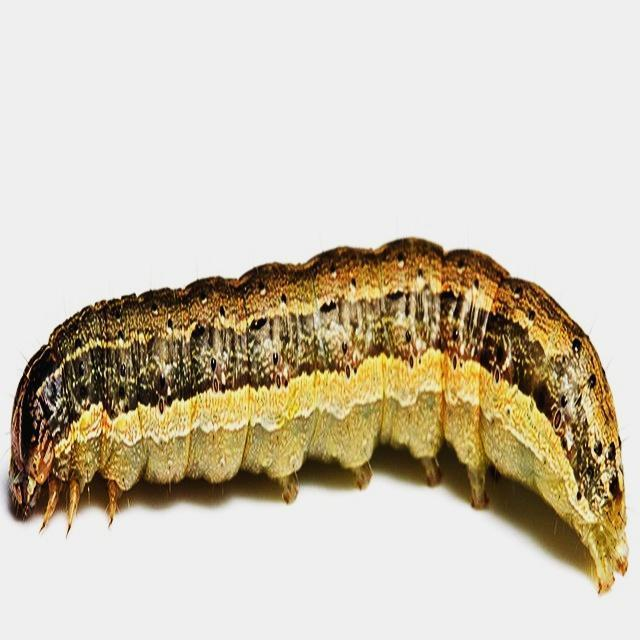gusano_cogollero: (1, 226, 640, 596)
